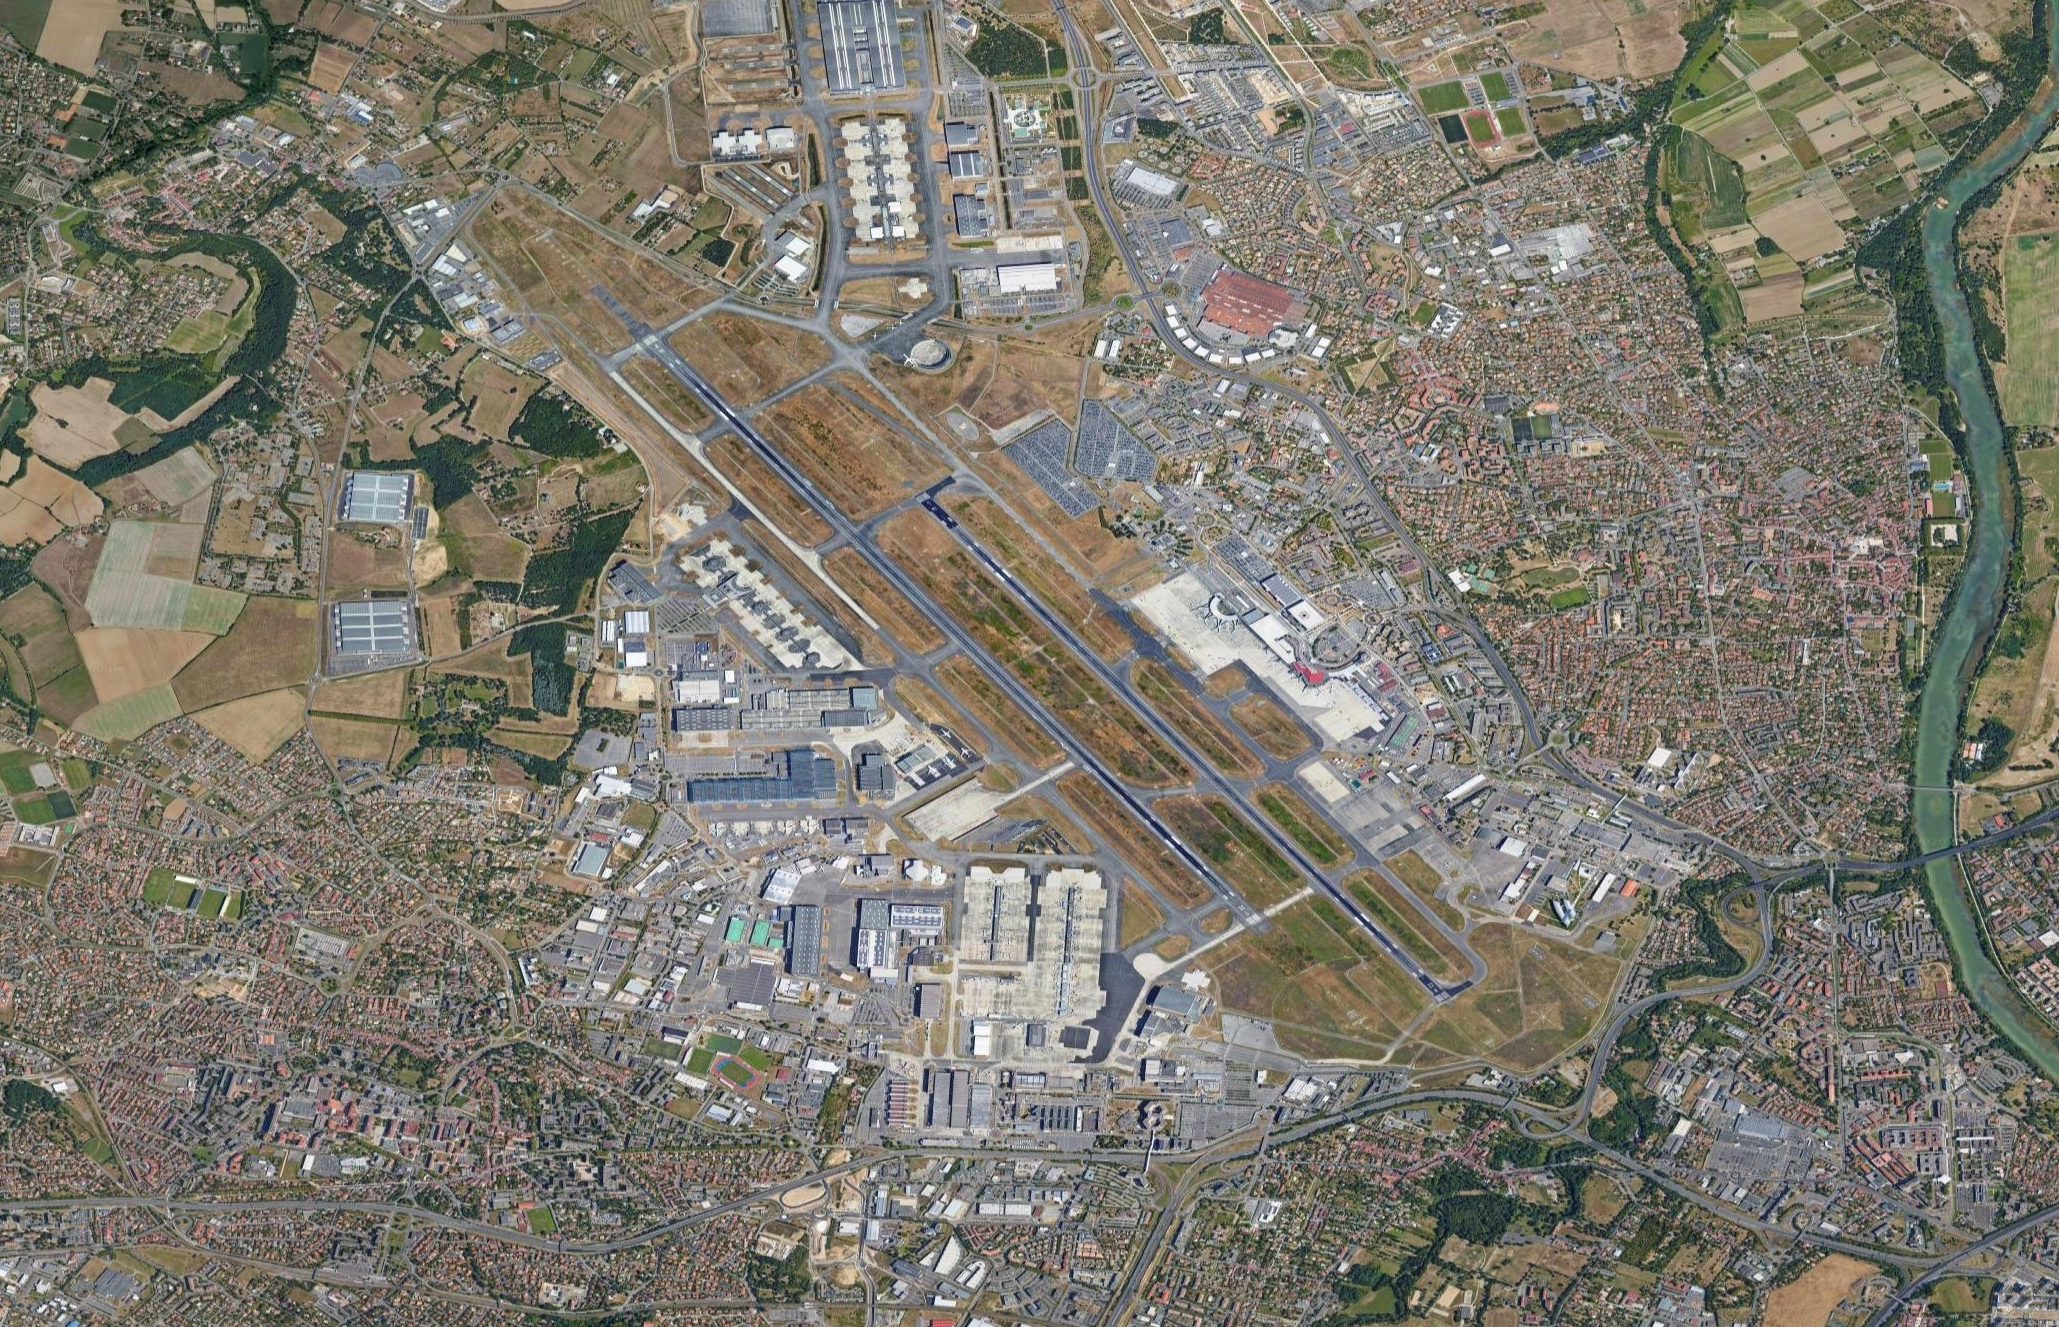airport: (587, 2, 1492, 1067)
bridge: (1916, 838, 1961, 872)
motorway: (1097, 1154, 1210, 1327), (1310, 401, 1421, 560), (1093, 189, 1189, 365), (558, 1184, 777, 1259), (1255, 1087, 1459, 1160), (1420, 549, 1514, 688), (1604, 1145, 1756, 1229), (1754, 1220, 1958, 1279), (1048, 2, 1108, 200), (359, 1199, 561, 1258), (1580, 775, 1720, 853), (1459, 1087, 1607, 1157), (1583, 991, 1670, 1102), (1958, 1193, 2059, 1279), (1510, 679, 1586, 790), (779, 1145, 927, 1201), (1183, 354, 1316, 414), (927, 1145, 1259, 1166), (1712, 841, 1778, 941), (1670, 941, 1778, 998), (1775, 853, 1912, 895), (1963, 809, 2059, 860), (2, 1193, 164, 1213), (164, 1196, 359, 1211)
